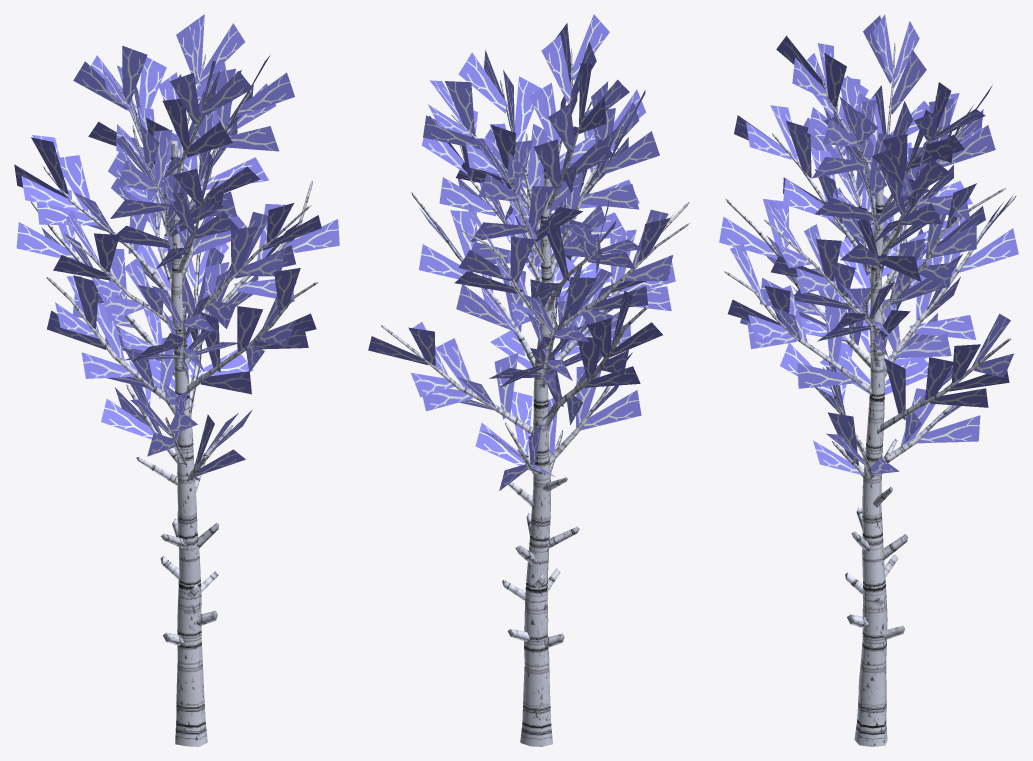
The model's file is Birch_03.fbx.
3 renders of one model, left to right at view 1: azimuth 30°, elevation 25°; view 2: azimuth 150°, elevation 25°; view 3: azimuth 270°, elevation 25°, orthographic.
Parts seen in each view (by area): view 1: LOD0; view 2: LOD0; view 3: LOD0.
Part boxes in pixels (x1=…): LOD0: x1=14, y1=14, x2=339, y2=746; LOD0: x1=368, y1=14, x2=689, y2=746; LOD0: x1=719, y1=14, x2=1018, y2=746.
Size of what is drawn, in the model's own units: 309 by 758 by 295.
